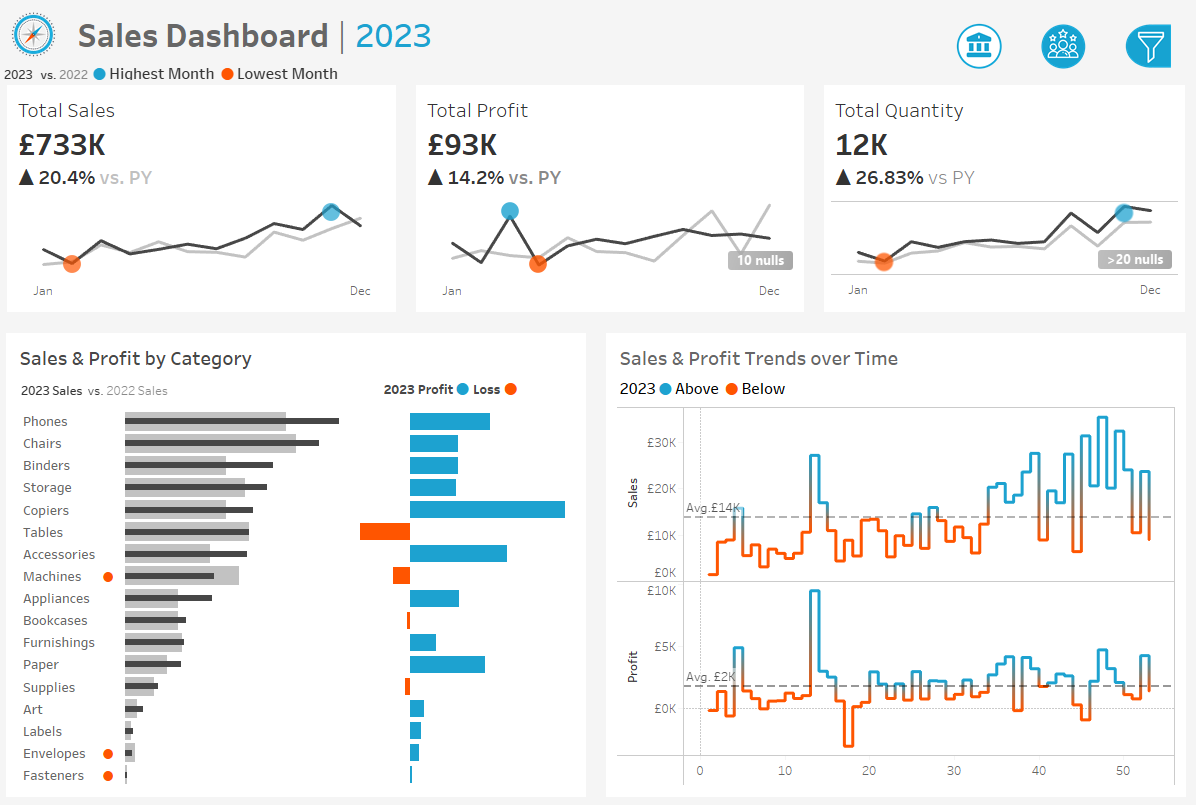

The page's visual inventory and layout, read from the dashboard file:
{"tool":"tableau","page":{"name":"Sales Dashboard","canvas":[1200,800],"ordinal":1},"visuals":[{"type":"image","param":"C:/Users/opeab/OneDrive/Documents/Power BI Projects/Sales-Dashboard-Materials/Sa","box":[0,0,75,54]},{"type":"text","box":[75,0,1125,54]},{"type":"blank","box":[941,10,249,76]},{"type":"dashboard-object","box":[941,12,84,54]},{"type":"dashboard-object","box":[1025,12,84,54]},{"type":"dashboard-object","box":[1109,12,84,54]},{"type":"worksheet","title":"Legend of KPI","mark":"Automatic","box":[0,54,1200,23]},{"type":"worksheet","title":"KPI Sales","mark":"Automatic","rows":["Calculation_1176565469983596549"],"cols":["Order Date"],"box":[1,78,408.5,237]},{"type":"worksheet","title":"KPI Profit","mark":"Automatic","rows":["Calculation_1176565470704246801"],"cols":["Order Date"],"box":[409.5,78,408.5,237]},{"type":"worksheet","title":"KPI Quantity","mark":"Line","rows":["Calculation_1176565470815363099"],"cols":["Order Date"],"box":[818,78,381,237]},{"type":"text","box":[941,86,249,34]},{"type":"parameter","param":"[Parameters].[Parameter 1]","box":[941,120,249,52]},{"type":"blank","box":[941,172,249,69]},{"type":"text","box":[941,241,249,29]},{"type":"filter","title":"KPI Sales","param":"[federated.07zcjsk0mnj98p1auhlqb0s122b3].[none:Category:nk]","box":[941,270,249,52]},{"type":"filter","title":"KPI Sales","param":"[federated.07zcjsk0mnj98p1auhlqb0s122b3].[none:Sub-Category:nk]","box":[941,322,249,52]},{"type":"text","box":[17,333,566,34]},{"type":"text","box":[617,333,566,34]},{"type":"worksheet","title":"Legend of Sub-category chart","mark":"Automatic","box":[17,367,364,32]},{"type":"text","box":[381,367,202,32]},{"type":"text","box":[617,367,566,29]},{"type":"text","box":[941,374,249,29]},{"type":"worksheet","title":"Weekly Trends","mark":"Automatic","rows":["Calculation_1176565469972766720","Calculation_1176565470692990990"],"cols":["Order Date"],"box":[617,396,566,387]},{"type":"worksheet","title":"Subcategory Comparison","mark":"Bar","rows":["Sub-Category","Calculation_1176565403231477790"],"cols":["CY Sales (copy)_1176565469973266434","Calculation_1176565469972766720","Calculation_1176565470692990990"],"box":[17,399,566,383.9]},{"type":"filter","title":"KPI Sales","param":"[federated.07zcjsk0mnj98p1auhlqb0s122b3].[none:Region:nk]","box":[941,403,249,52]},{"type":"filter","title":"KPI Sales","param":"[federated.07zcjsk0mnj98p1auhlqb0s122b3].[none:State:nk]","box":[941,455,249,52]},{"type":"filter","title":"KPI Sales","param":"[federated.07zcjsk0mnj98p1auhlqb0s122b3].[none:City:nk]","box":[941,507,249,52]}]}

Visuals, with their boxes in screenshot pixels (x1, y1, x2, y2), scaled from the page's 1200x800 canvas onto the 1196x805 screenshot:
image: [left=0, top=0, right=75, bottom=54]
text: [left=75, top=0, right=1195, bottom=54]
blank: [left=938, top=10, right=1186, bottom=87]
dashboard-object: [left=938, top=12, right=1022, bottom=66]
dashboard-object: [left=1022, top=12, right=1105, bottom=66]
dashboard-object: [left=1105, top=12, right=1189, bottom=66]
"Legend of KPI" worksheet: [left=0, top=54, right=1195, bottom=77]
"KPI Sales" worksheet: [left=1, top=78, right=408, bottom=317]
"KPI Profit" worksheet: [left=408, top=78, right=815, bottom=317]
"KPI Quantity" worksheet (Line marks): [left=815, top=78, right=1195, bottom=317]
text: [left=938, top=87, right=1186, bottom=121]
parameter: [left=938, top=121, right=1186, bottom=173]
blank: [left=938, top=173, right=1186, bottom=243]
text: [left=938, top=243, right=1186, bottom=272]
"KPI Sales" filter: [left=938, top=272, right=1186, bottom=324]
"KPI Sales" filter: [left=938, top=324, right=1186, bottom=376]
text: [left=17, top=335, right=581, bottom=369]
text: [left=615, top=335, right=1179, bottom=369]
"Legend of Sub-category chart" worksheet: [left=17, top=369, right=380, bottom=401]
text: [left=380, top=369, right=581, bottom=401]
text: [left=615, top=369, right=1179, bottom=398]
text: [left=938, top=376, right=1186, bottom=406]
"Weekly Trends" worksheet: [left=615, top=398, right=1179, bottom=788]
"Subcategory Comparison" worksheet (Bar marks): [left=17, top=401, right=581, bottom=788]
"KPI Sales" filter: [left=938, top=406, right=1186, bottom=458]
"KPI Sales" filter: [left=938, top=458, right=1186, bottom=510]
"KPI Sales" filter: [left=938, top=510, right=1186, bottom=562]
